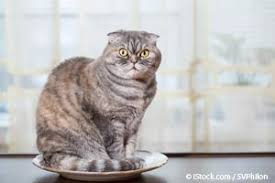Gato: (94, 21, 173, 106)
